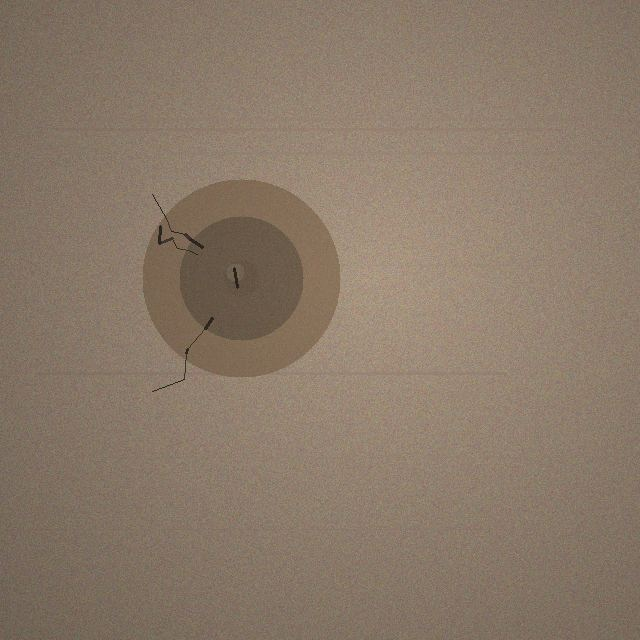crack: (142, 179, 340, 377)
